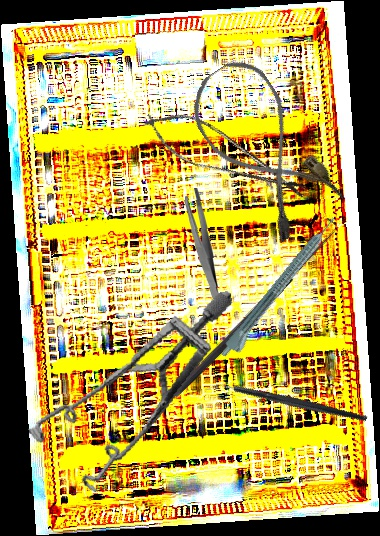Cannula: (177, 49, 348, 246)
Chopper: (203, 333, 369, 474)
Dressing Forceps: (181, 187, 224, 300)
Handpiece: (217, 214, 345, 364)
Hook Surgical: (163, 215, 342, 400)
Micro Scissor: (136, 99, 315, 211)
Speculum: (8, 290, 266, 503)
